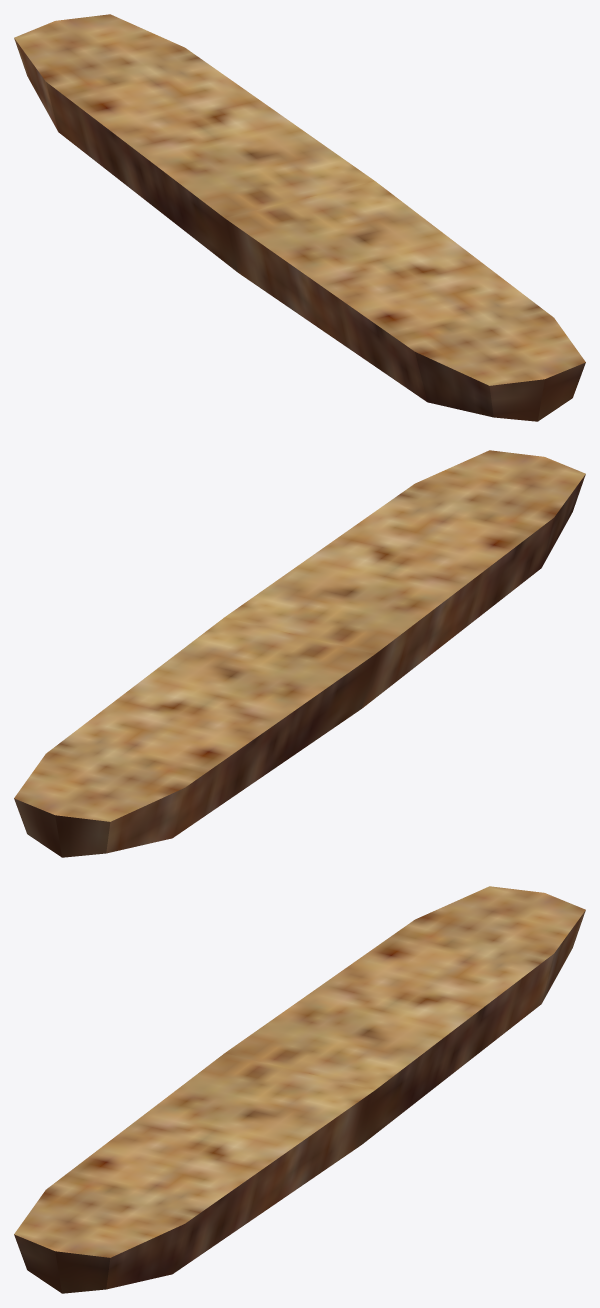
The model's file is skippey_wholecrack_bottom.fbx.
3 renders of one model, top to bottom at view 1: azimuth 30°, elevation 25°; view 2: azimuth 150°, elevation 25°; view 3: azimuth 330°, elevation 25°, orthographic.
Parts seen in each view (by area): view 1: skippey wholecrack bottom; view 2: skippey wholecrack bottom; view 3: skippey wholecrack bottom.
Part boxes in pixels (bbox=[...]): skippey wholecrack bottom: bbox=[14, 14, 585, 421]; skippey wholecrack bottom: bbox=[14, 450, 585, 857]; skippey wholecrack bottom: bbox=[14, 886, 585, 1293].
Size of the model in its own units: 0.2082 by 1.17 by 0.0984.
